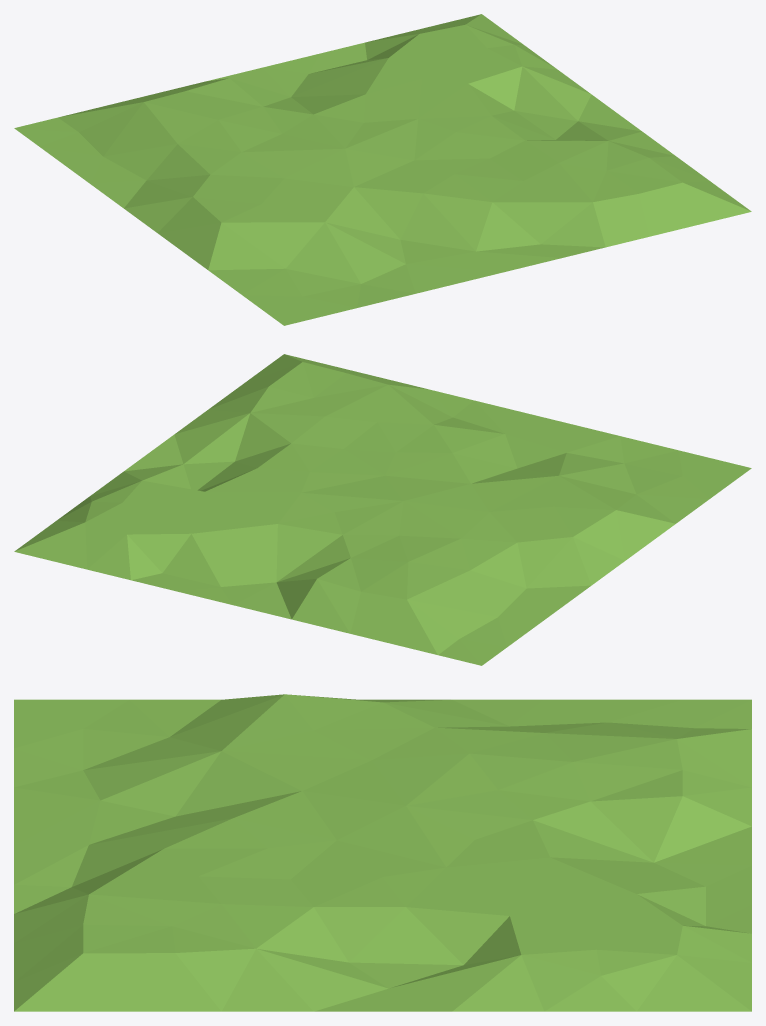
The model's file is MT_Terrain_S_c_25_LOD.fbx.
3 views of the same model, one above another, from view 1: azimuth 30°, elevation 25°; view 2: azimuth 150°, elevation 25°; view 3: azimuth 270°, elevation 25° (orthographic). The views are drawn at different scales.
Visible parts, largest first — view 1: MT_Terrain_S_c_25_LOD0; view 2: MT_Terrain_S_c_25_LOD0; view 3: MT_Terrain_S_c_25_LOD0.
Boxes of the visible parts, left/top/right/bottom form: MT_Terrain_S_c_25_LOD0: left=14, top=14, right=751, bottom=325; MT_Terrain_S_c_25_LOD0: left=14, top=354, right=751, bottom=665; MT_Terrain_S_c_25_LOD0: left=14, top=694, right=751, bottom=1011.
Size of what is drawn, in the model's own units: 2500 by 122 by 2500.
